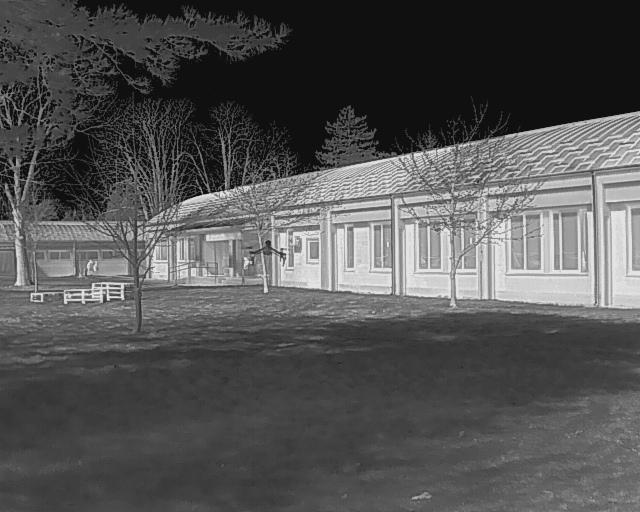drone: (234, 234, 305, 273)
